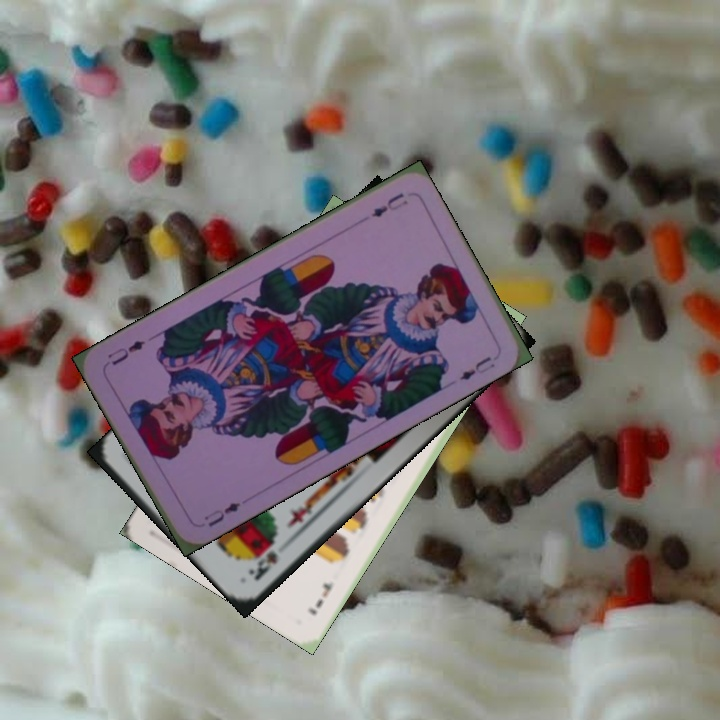E7: (303, 578, 336, 618)
EU: (367, 188, 411, 220), (200, 498, 243, 530)
SK: (244, 546, 280, 584)
